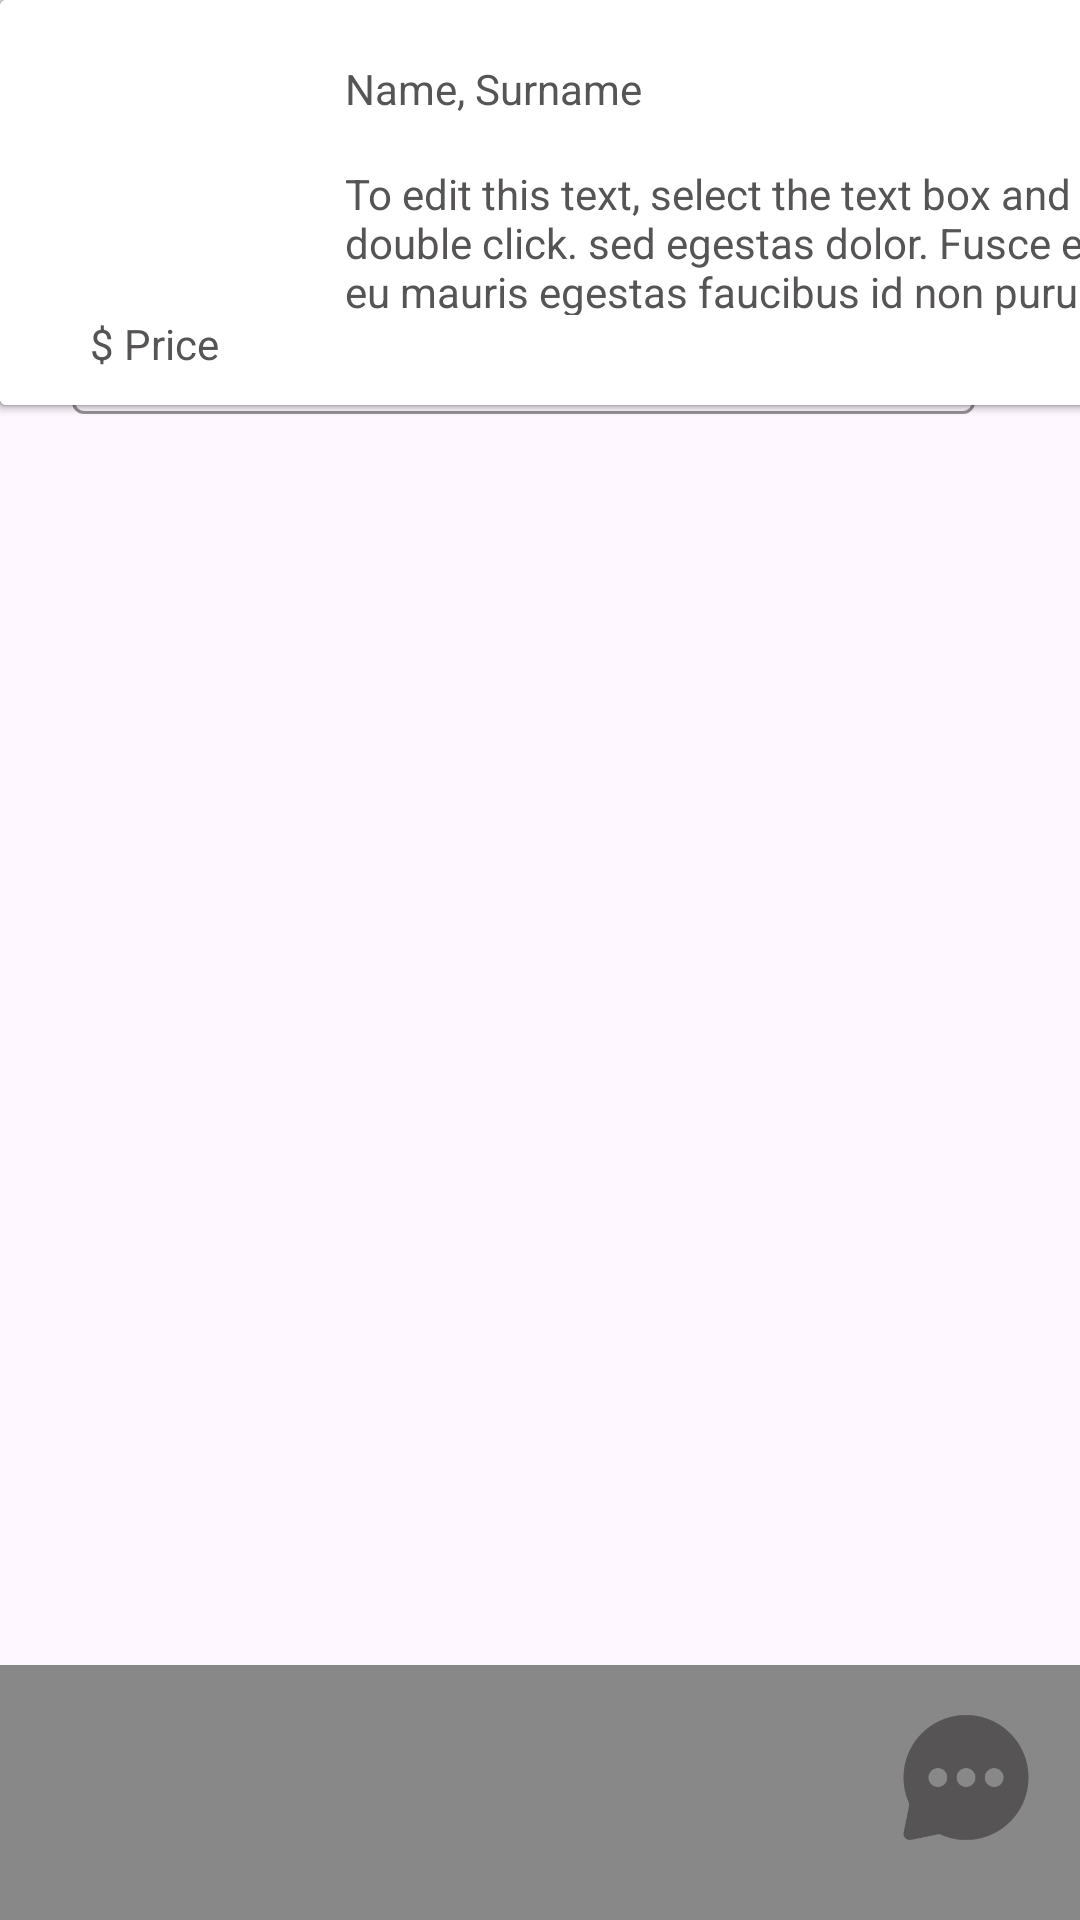

Icons on this 1080px x 1920px Android screen, each with its box as (x1, y1, x2, y2):
comentario: (903, 1715, 1029, 1840)
